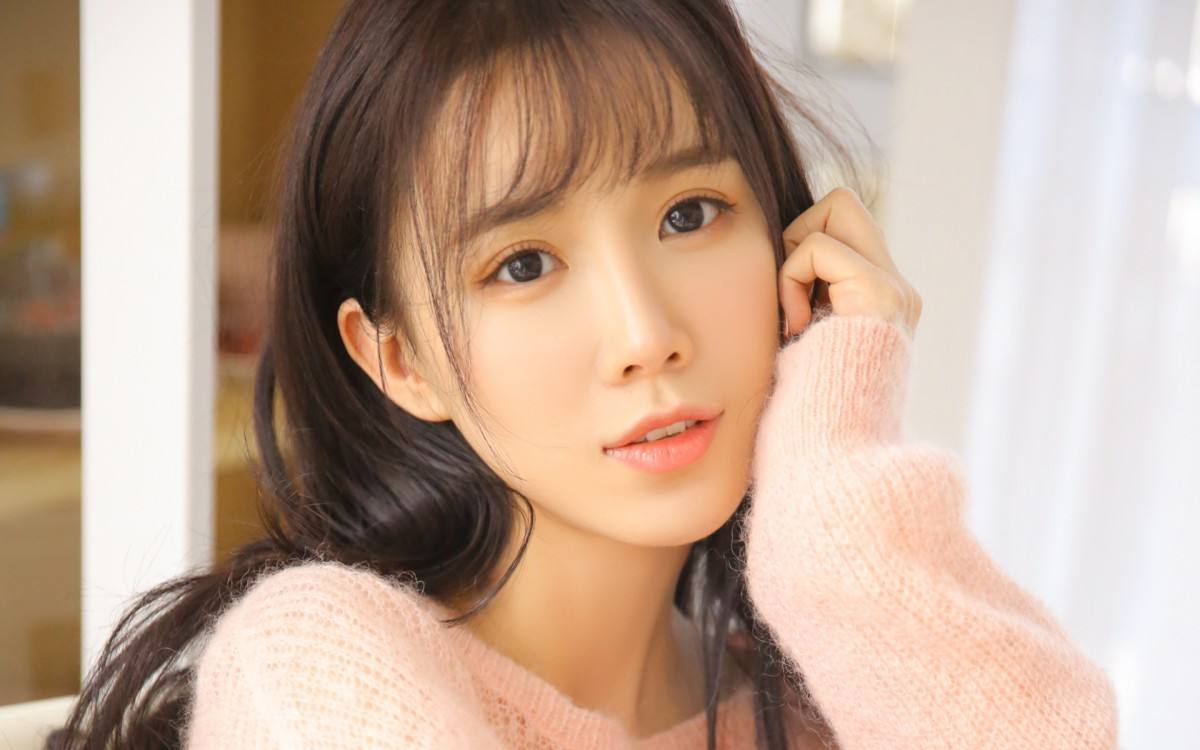person: (242, 25, 1008, 659)
